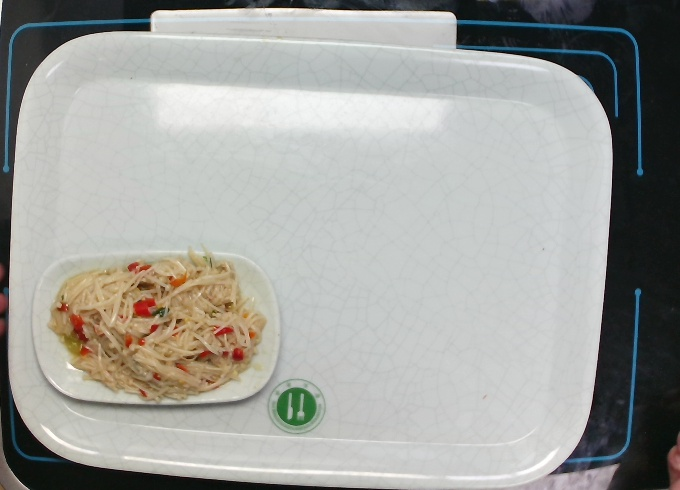WCQzf-Tuo_Yuan_Pan: (29, 248, 283, 408)
